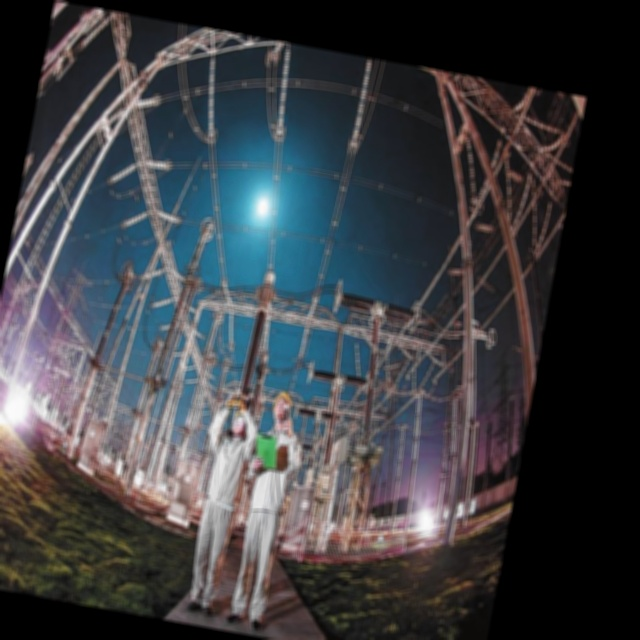Con_Casco: (270, 387, 293, 429)
Sin_Chaleco: (204, 434, 247, 508)
